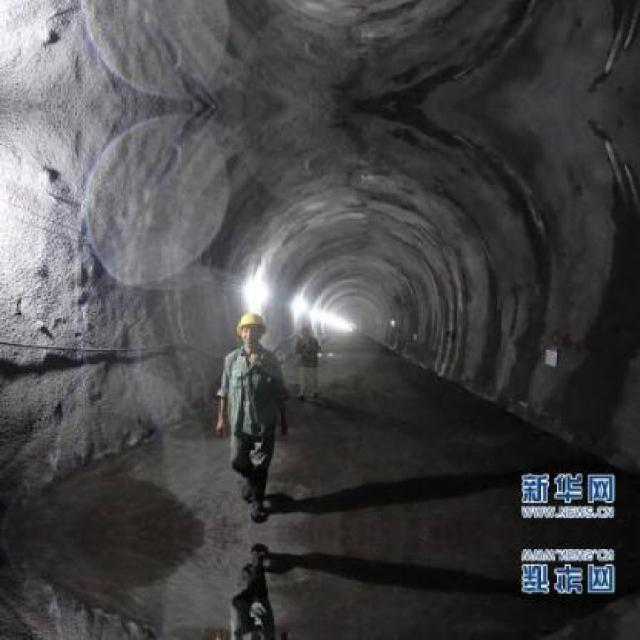helmet: (236, 310, 266, 352)
